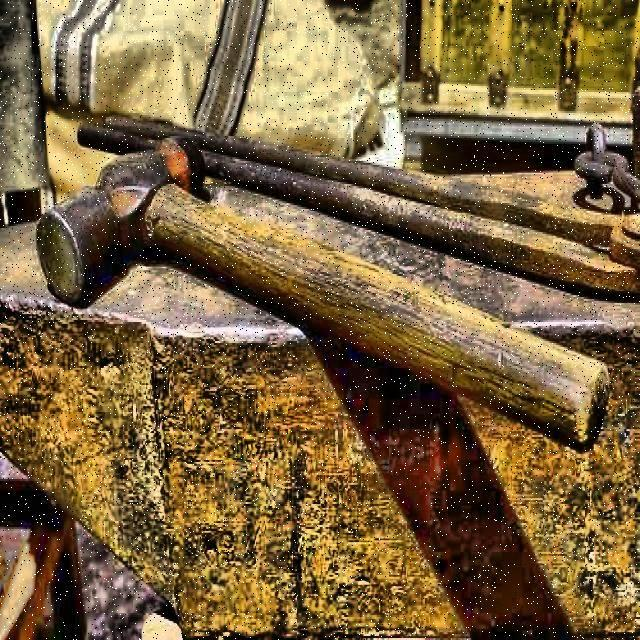hammer: (37, 134, 619, 454)
